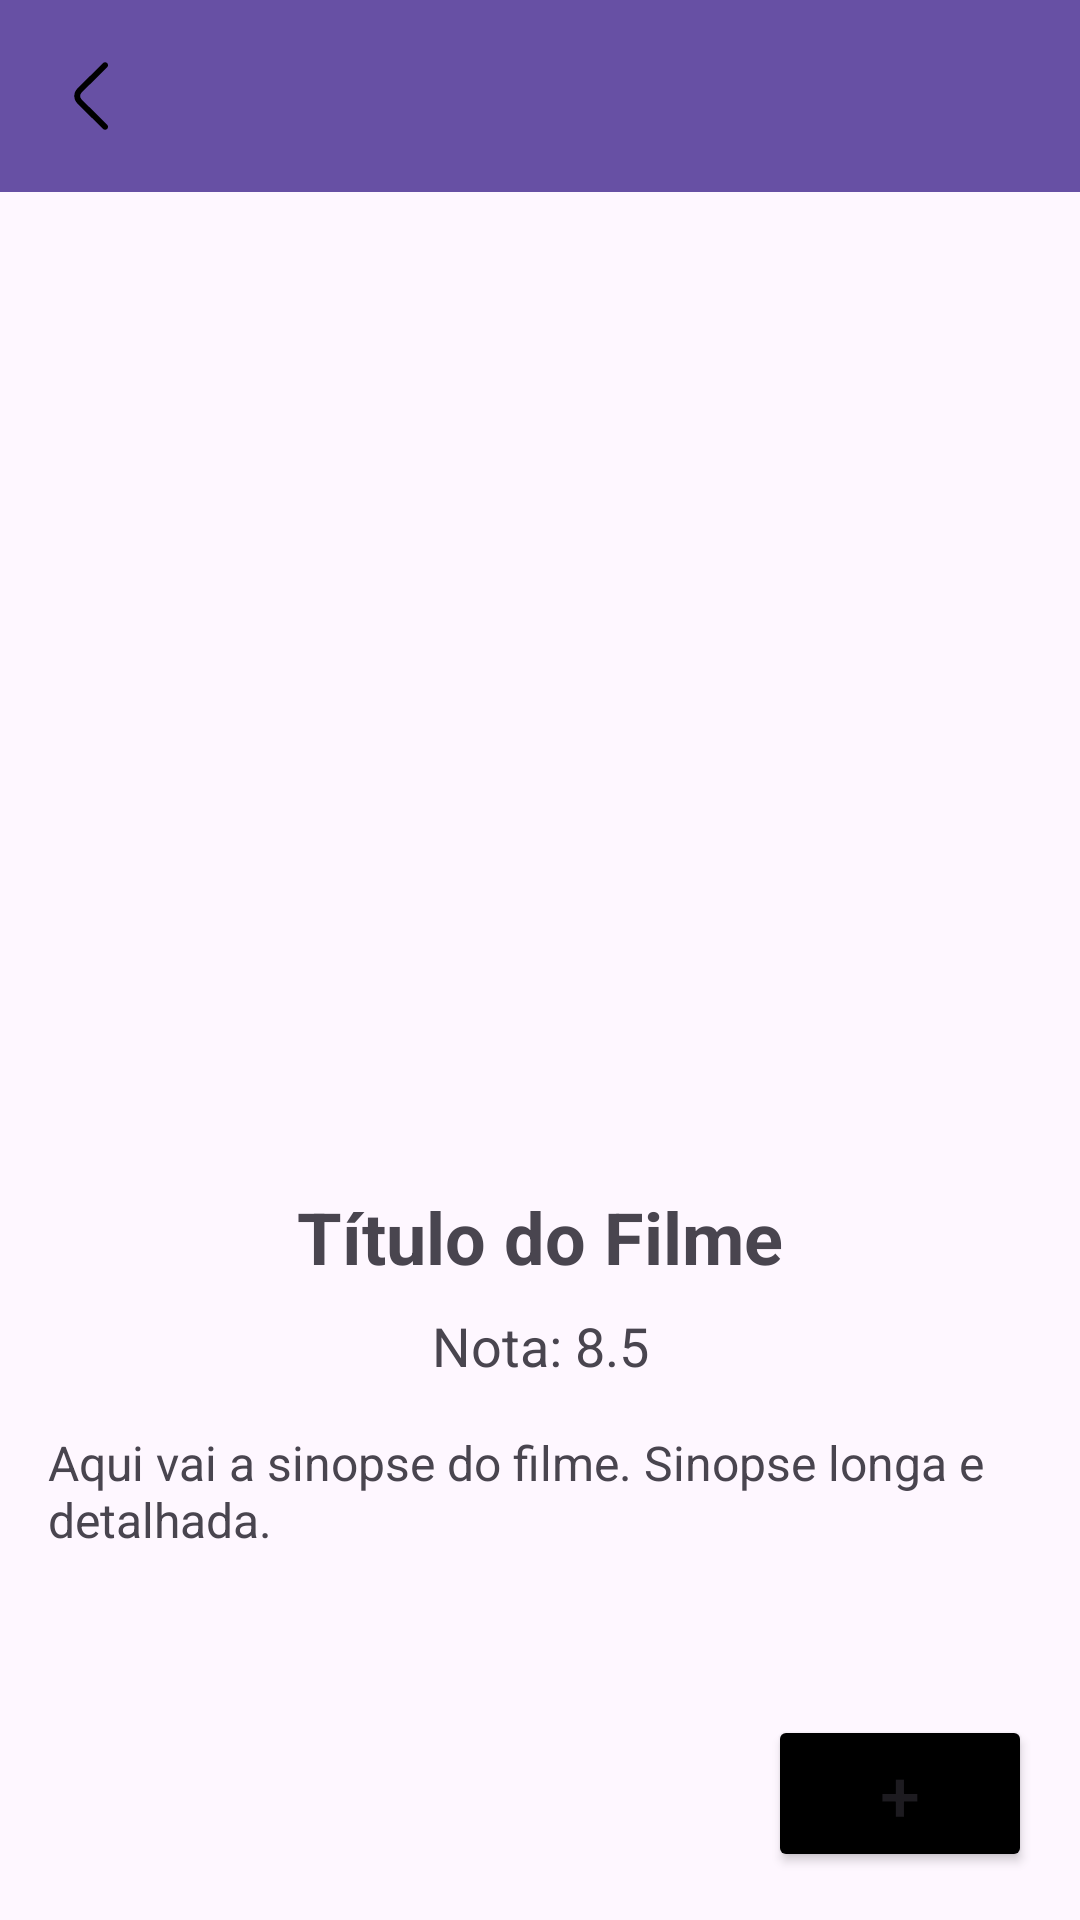

Screen size 1080w x 1920h. Icon name, then its box in pixels as (x1, y1, x2, y2):
Back: (74, 62, 108, 130)
